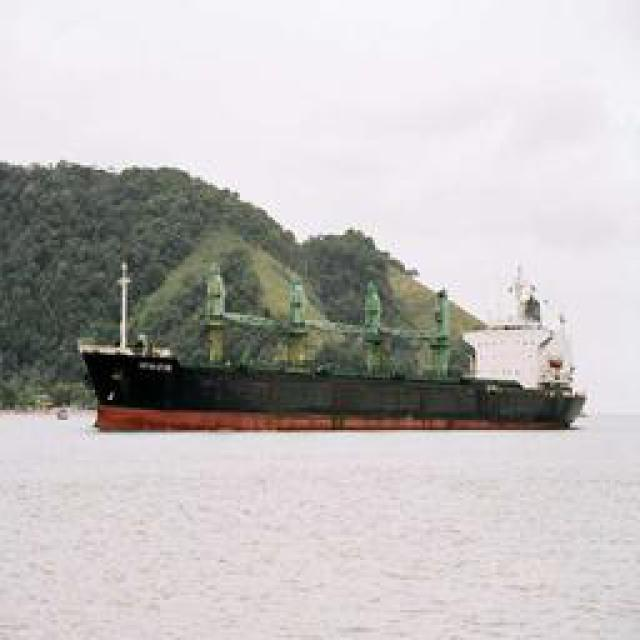Ship: (74, 266, 591, 432)
